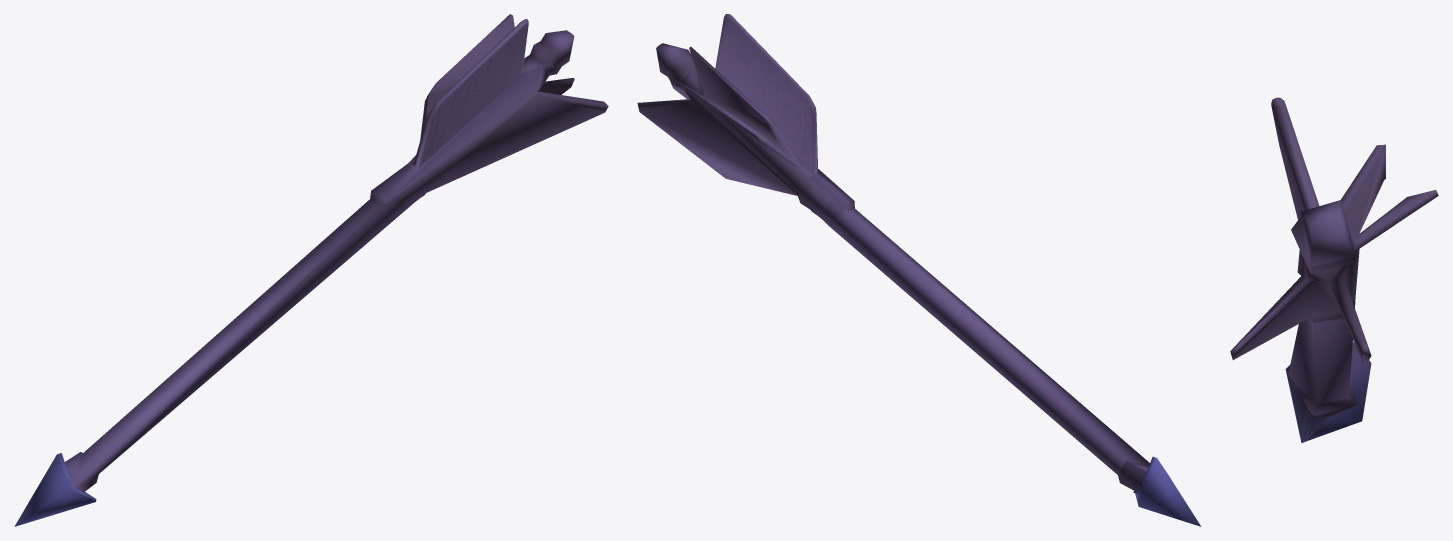
Rendered from model.progressive.glb.
3 views of the same model, side by side, from view 1: azimuth 30°, elevation 25°; view 2: azimuth 150°, elevation 25°; view 3: azimuth 270°, elevation 25° (orthographic). The views are drawn at different scales.
Visible parts, largest first — view 1: mesh_input; view 2: mesh_input; view 3: mesh_input.
Part boxes in pixels (box(x1,y1,x2,y2)): mesh_input: box(14, 14, 608, 526); mesh_input: box(637, 14, 1201, 526); mesh_input: box(1230, 97, 1438, 442).
Bounding box in the file's own units: 1.9 × 1.26 × 0.3086.
1 material, 1 textured.
